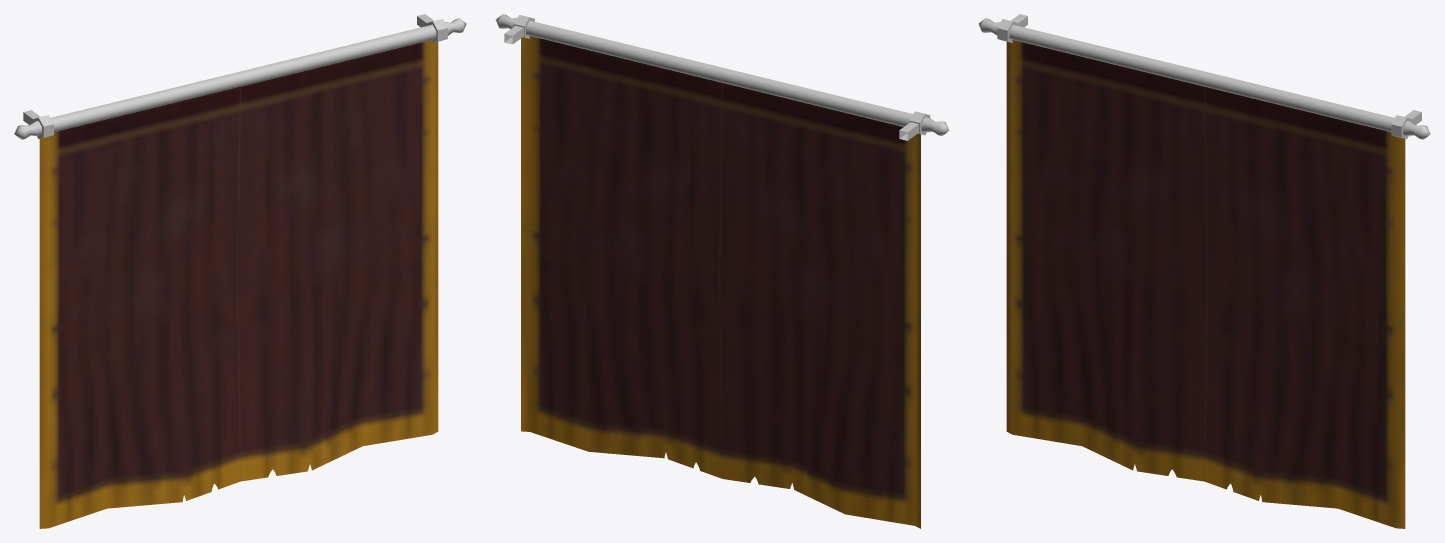
The model's file is Curtain_5A.fbx.
The picture shows the model from 3 angles, left to right: view 1: azimuth 30°, elevation 25°; view 2: azimuth 150°, elevation 25°; view 3: azimuth 330°, elevation 25°; orthographic projection.
Visible parts, largest first — view 1: Alpha, polySurface7660; view 2: Alpha, polySurface7660; view 3: Alpha, polySurface7660.
Part boxes in pixels (x1,y1,x2,y2): Alpha: (39, 40, 438, 528); polySurface7660: (14, 14, 466, 139); Alpha: (521, 36, 920, 528); polySurface7660: (495, 14, 949, 140); Alpha: (1006, 40, 1405, 528); polySurface7660: (978, 14, 1430, 139).
Bounding box in the file's own units: 4.36 × 3.81 × 0.3868.
